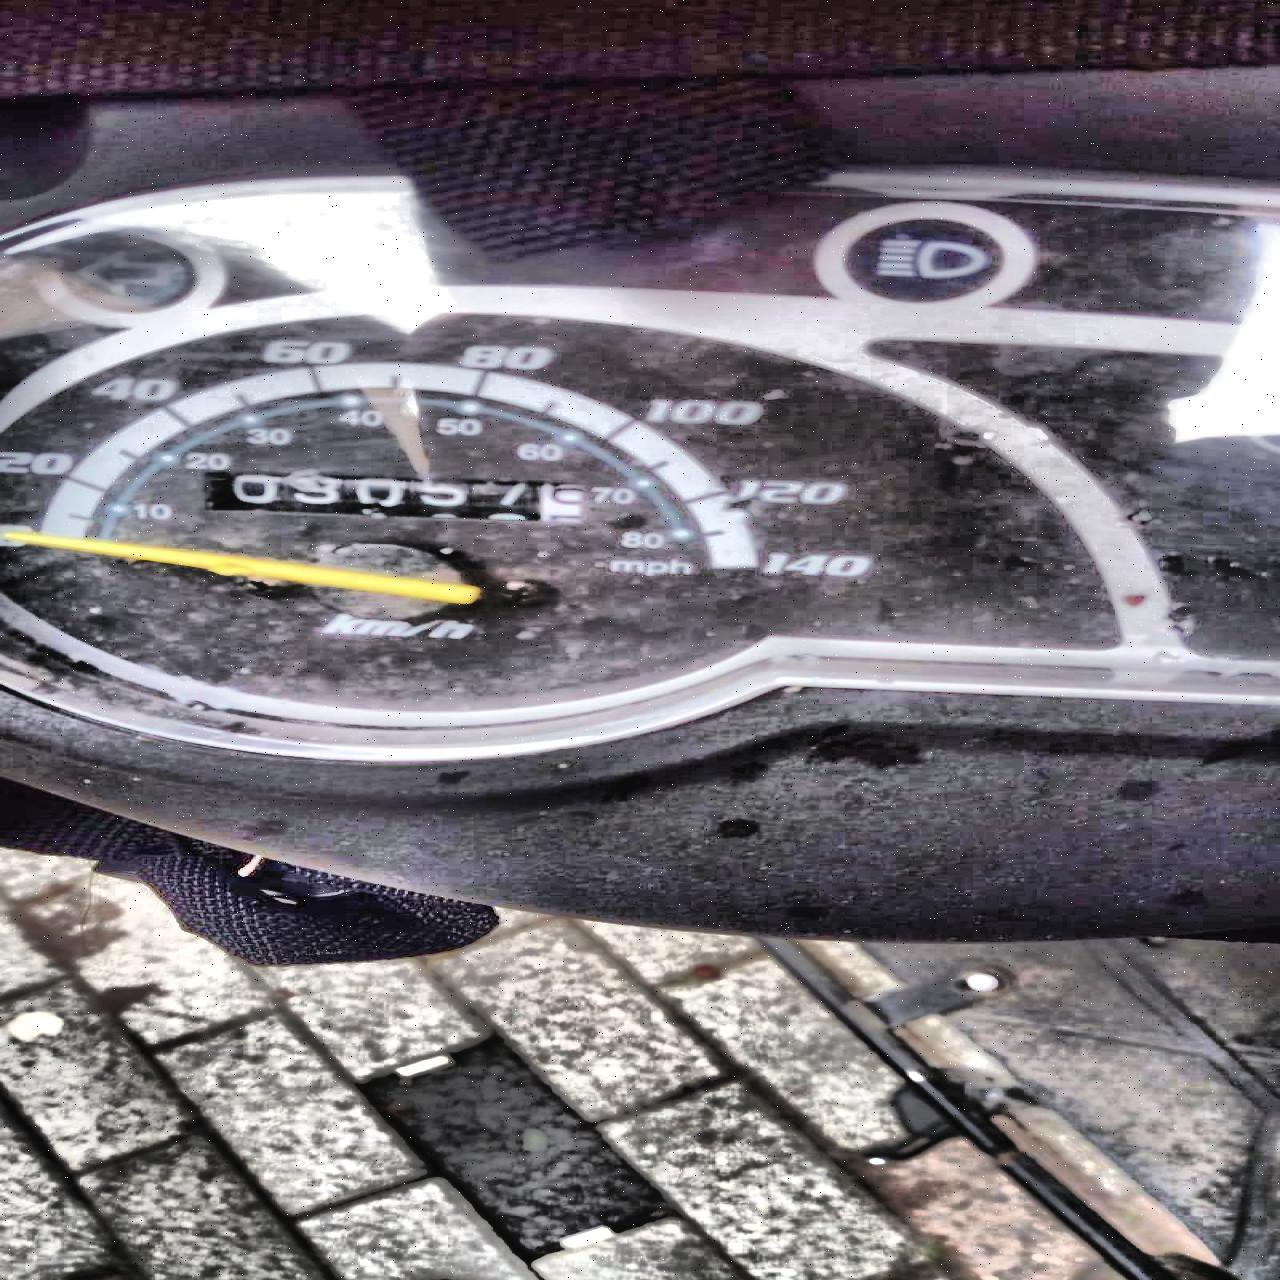0: (350, 474, 409, 511), (227, 470, 279, 505)
3: (293, 474, 341, 508)
5: (417, 475, 472, 508)
6: (550, 476, 592, 511)
7: (486, 475, 535, 505)
odometer: (205, 467, 597, 523)
